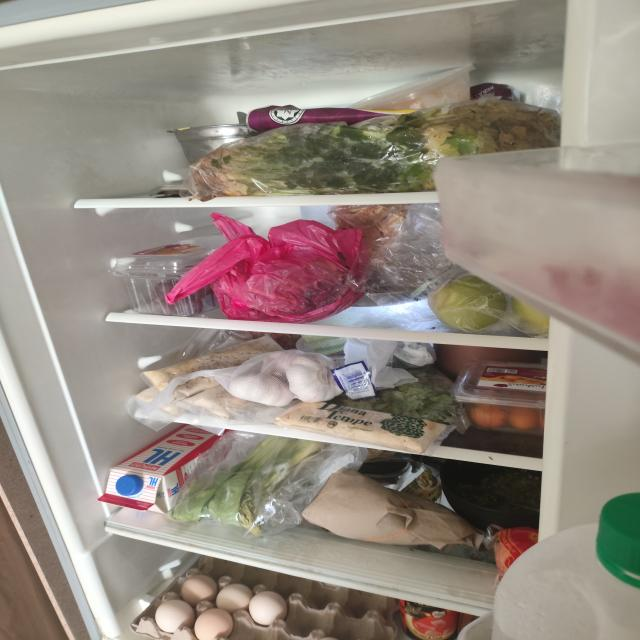apple: (427, 274, 508, 333)
egg: (130, 554, 399, 640)
garlic: (228, 349, 344, 407)
leafy_greens: (197, 100, 560, 195), (338, 366, 465, 424)
orange: (494, 527, 539, 574)
pakchoy: (171, 436, 325, 536)
tempeh: (135, 336, 284, 420), (276, 401, 447, 456)
